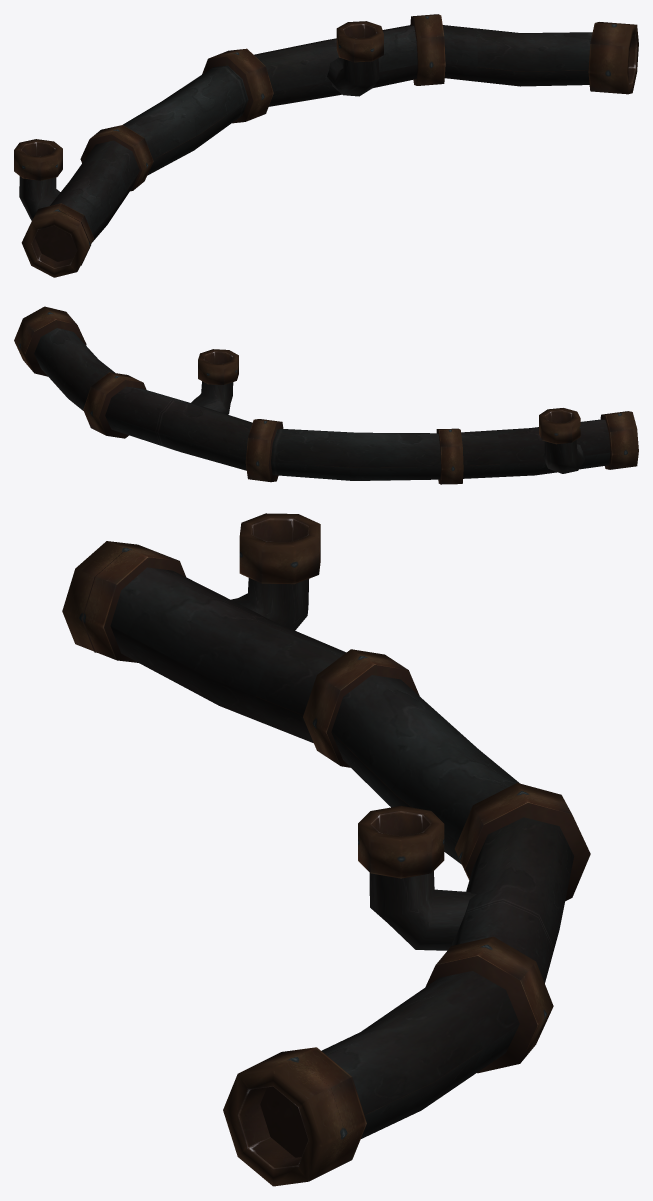
File: sewer_pipe002.FBX
3 renders of one model, top to bottom at view 1: azimuth 30°, elevation 25°; view 2: azimuth 150°, elevation 25°; view 3: azimuth 270°, elevation 25°, orthographic. The views are drawn at different scales.
Visible parts, largest first — view 1: sewer_pipe002; view 2: sewer_pipe002; view 3: sewer_pipe002.
Boxes of the visible parts, bbox=[...] form: sewer_pipe002: bbox=[14, 14, 638, 277]; sewer_pipe002: bbox=[14, 306, 638, 484]; sewer_pipe002: bbox=[62, 513, 590, 1186].
Size of the model in its own units: 1596 by 212 by 628.
